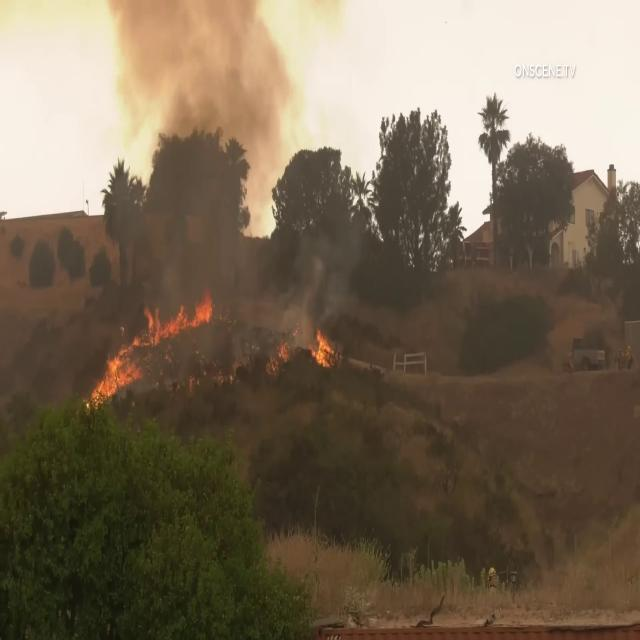fire: (138, 292, 214, 357), (79, 328, 139, 408)
smoke: (112, 0, 294, 138), (308, 227, 358, 327)
